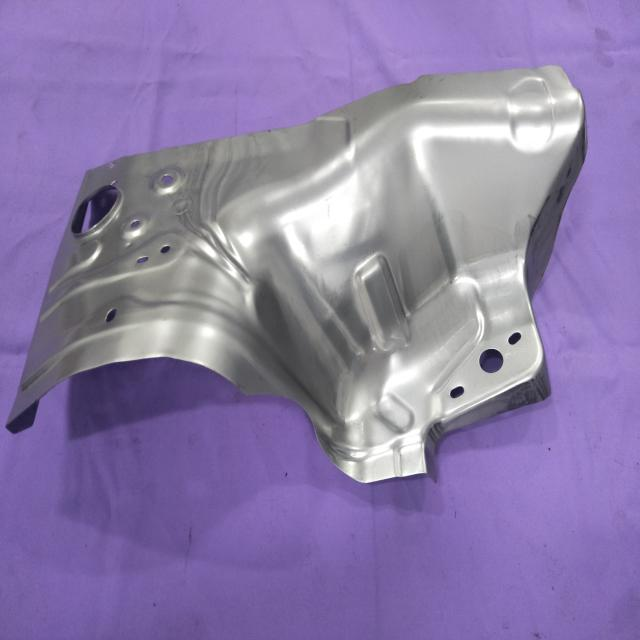Defect: (242, 378, 336, 453)
